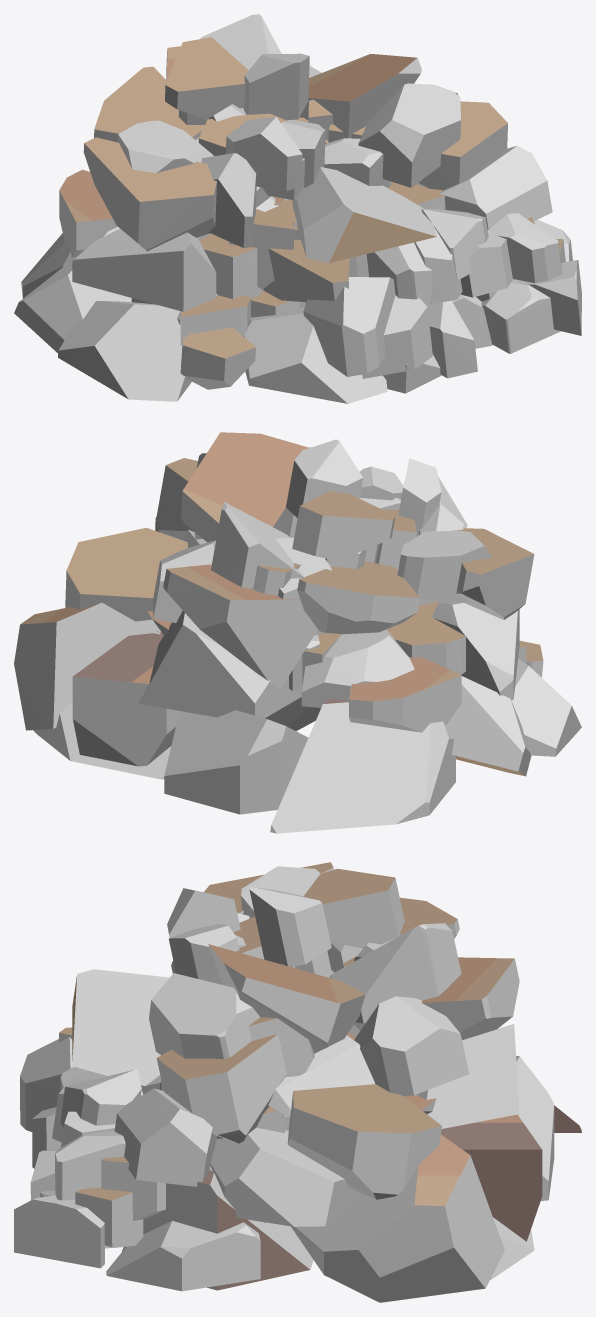
Rendered from Obstacle_origin.fbx.
3 views of the same model, one above another, from view 1: azimuth 30°, elevation 25°; view 2: azimuth 150°, elevation 25°; view 3: azimuth 270°, elevation 25° (orthographic). The views are drawn at different scales.
Parts seen in each view (by area): view 1: Obstacle_Origin; view 2: Obstacle_Origin; view 3: Obstacle_Origin.
Boxes of the visible parts, x1,y1,x2,y2 form: Obstacle_Origin: (14,14,581,403); Obstacle_Origin: (14,432,581,833); Obstacle_Origin: (14,862,581,1302).
Bounding box in the file's own units: 3.93 × 2.15 × 3.63.
